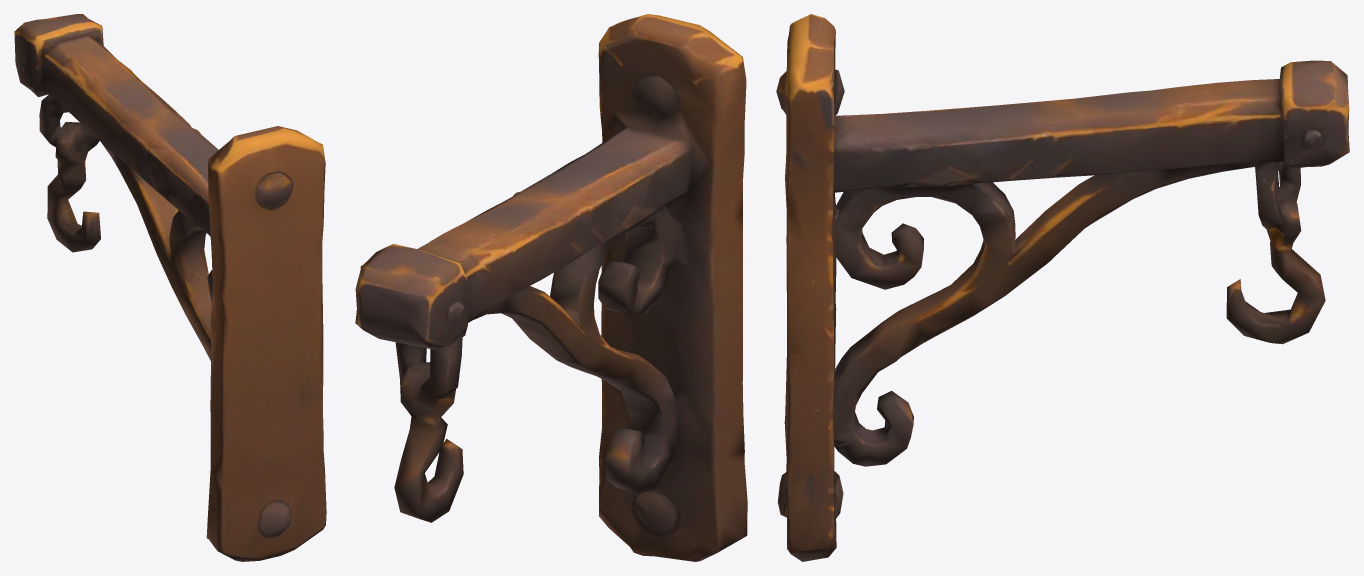
The model's file is model-prop-lantern-hook-01.glb.
The picture shows the model from 3 angles, left to right: view 1: azimuth 30°, elevation 25°; view 2: azimuth 150°, elevation 25°; view 3: azimuth 270°, elevation 25°; orthographic projection. The views are drawn at different scales.
Visible parts, largest first — view 1: tripo_node_644a7ef1-759f-481d-a211-d97753fc8193; view 2: tripo_node_644a7ef1-759f-481d-a211-d97753fc8193; view 3: tripo_node_644a7ef1-759f-481d-a211-d97753fc8193.
Part boxes in pixels (x1,y1,x2,y2): tripo_node_644a7ef1-759f-481d-a211-d97753fc8193: (14,14,326,561); tripo_node_644a7ef1-759f-481d-a211-d97753fc8193: (355,14,747,561); tripo_node_644a7ef1-759f-481d-a211-d97753fc8193: (776,14,1349,561).
Size of the model in its own units: 0.1338 by 0.5 by 0.5006.
Materials: 1 (1 with a texture image).
